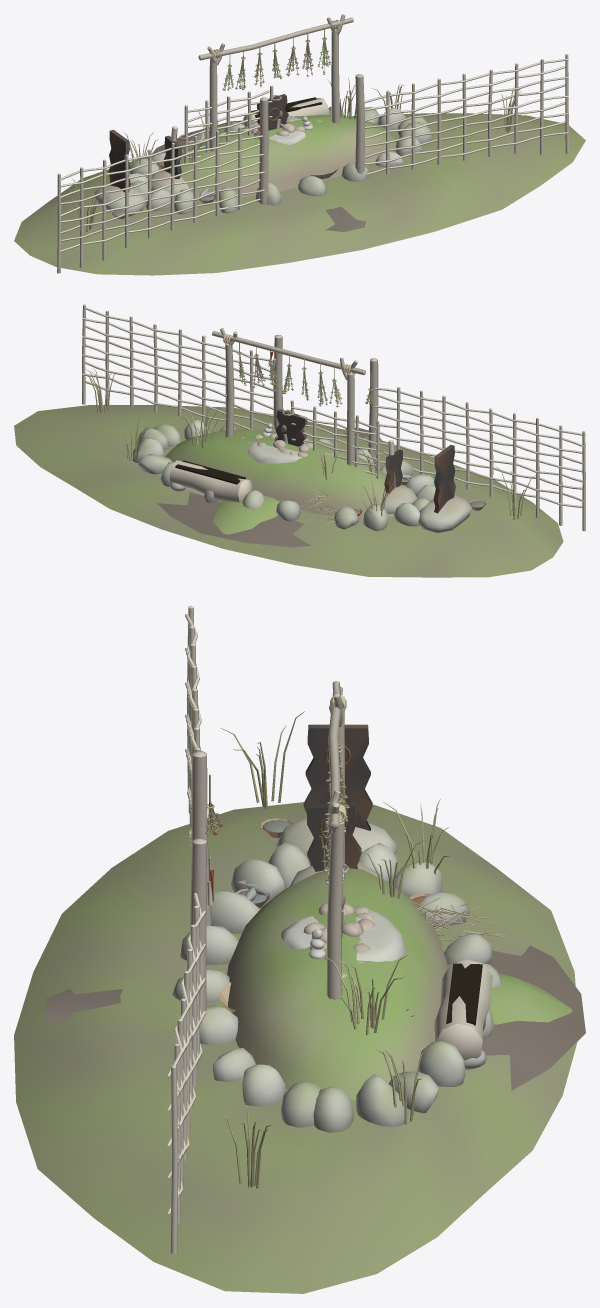
File: swamp_folk.glb
3 views of the same model, one above another, from view 1: azimuth 30°, elevation 25°; view 2: azimuth 150°, elevation 25°; view 3: azimuth 270°, elevation 25° (orthographic). The views are drawn at different scales.
Visible parts, largest first — view 1: sf_trade_stone, og_long_barrow, sf_herb_rack, sf_wicket, og_fresh_mound_a, sf_goat_stake, og_iron_stone, og_fresh_mound_b; view 2: sf_trade_stone, og_long_barrow, sf_goat_stake, sf_herb_rack, og_iron_stone, sf_wicket, og_fresh_mound_a, og_fresh_mound_b; view 3: sf_trade_stone, og_long_barrow, sf_goat_stake, sf_herb_rack, og_fresh_mound_a, og_iron_stone.
Part boxes in pixels (x1=…): sf_trade_stone: x1=14, y1=54, x2=585, y2=275; og_long_barrow: x1=94, y1=77, x2=432, y2=218; sf_herb_rack: x1=198, y1=14, x2=353, y2=179; sf_wicket: x1=179, y1=85, x2=281, y2=163; og_fresh_mound_a: x1=151, y1=120, x2=321, y2=203; sf_goat_stake: x1=152, y1=97, x2=329, y2=153; og_iron_stone: x1=217, y1=94, x2=288, y2=134; og_fresh_mound_b: x1=156, y1=118, x2=305, y2=173; sf_trade_stone: x1=14, y1=304, x2=585, y2=577; og_long_barrow: x1=131, y1=406, x2=485, y2=532; sf_goat_stake: x1=157, y1=434, x2=339, y2=547; sf_herb_rack: x1=212, y1=328, x2=365, y2=465; og_iron_stone: x1=213, y1=409, x2=307, y2=534; sf_wicket: x1=282, y1=400, x2=384, y2=478; og_fresh_mound_a: x1=240, y1=434, x2=417, y2=513; og_fresh_mound_b: x1=248, y1=433, x2=395, y2=516; sf_trade_stone: x1=14, y1=606, x2=577, y2=1293; og_long_barrow: x1=172, y1=724, x2=501, y2=1132; sf_goat_stake: x1=342, y1=897, x2=585, y2=1090; sf_herb_rack: x1=220, y1=681, x2=350, y2=1012; og_fresh_mound_a: x1=235, y1=802, x2=384, y2=978; og_iron_stone: x1=341, y1=903, x2=572, y2=1024.
Size of the model in its own units: 6.76 by 2.52 by 3.31.
